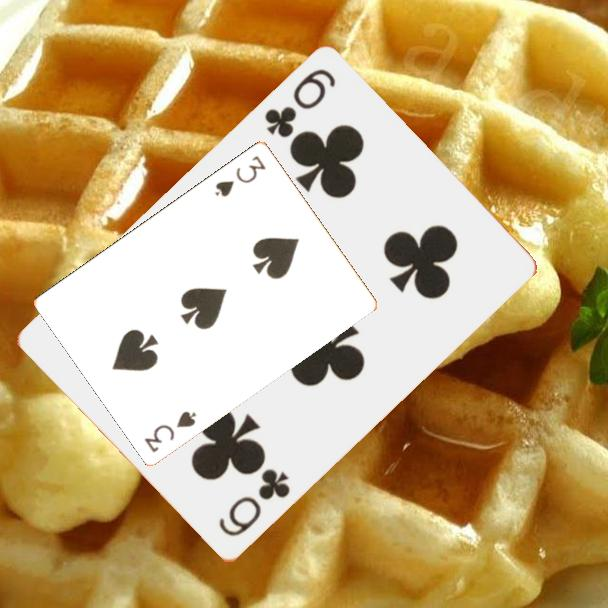c06: (260, 66, 339, 142), (215, 466, 293, 541)
s03: (212, 151, 269, 200), (141, 407, 199, 455)
